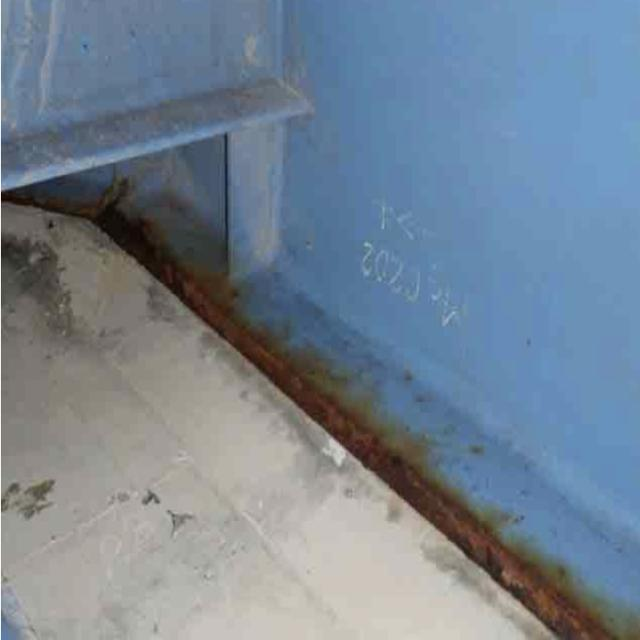corrosion: (128, 214, 562, 637)
